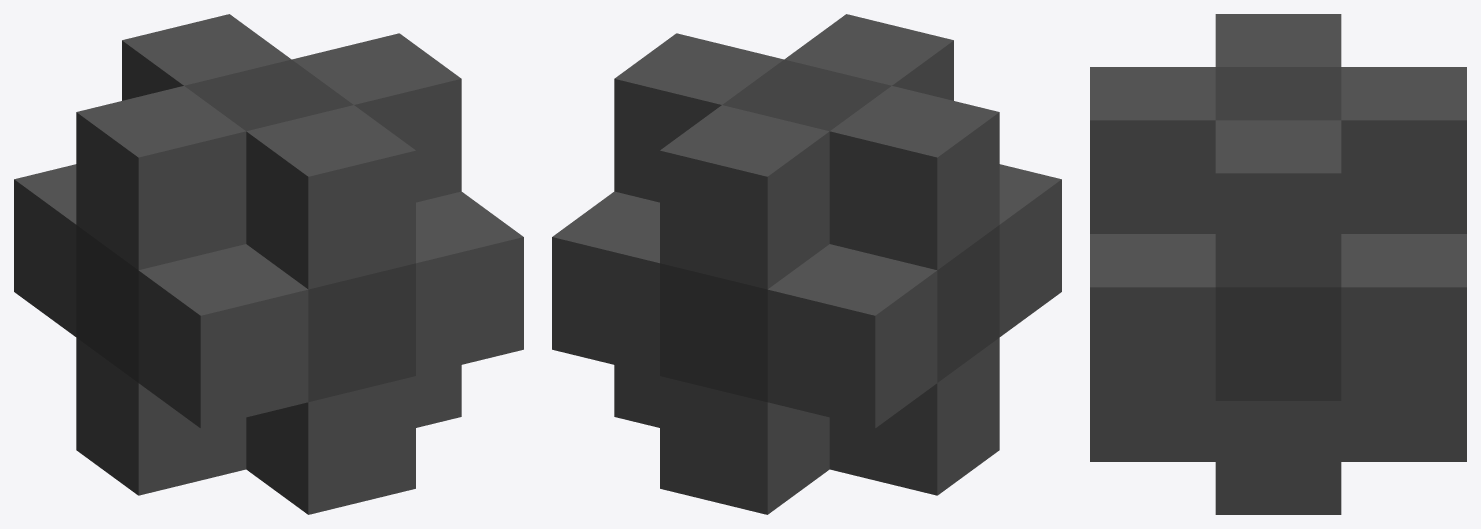
Rendered from cannon_ball.obj.
The picture shows the model from 3 angles, left to right: view 1: azimuth 30°, elevation 25°; view 2: azimuth 150°, elevation 25°; view 3: azimuth 270°, elevation 25°; orthographic projection.
Size of the model in its own units: 0.3 by 0.3 by 0.3.
1 material, 1 textured.
